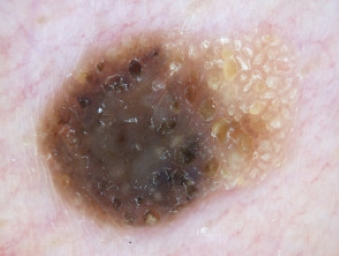seborrheic keratosis: (29, 26, 310, 231)
